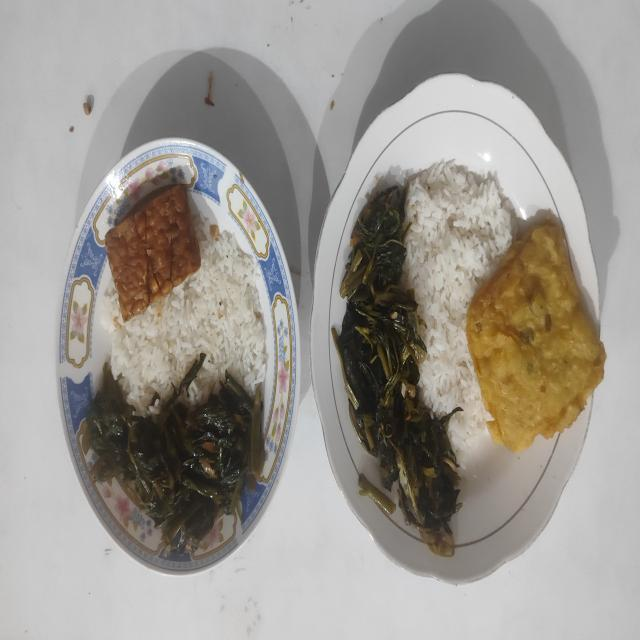nasi_putih: (401, 160, 516, 467), (101, 220, 268, 416)
tempe_goreng: (105, 186, 200, 320)
tumis_kangkung: (331, 186, 462, 556), (82, 363, 264, 556)
